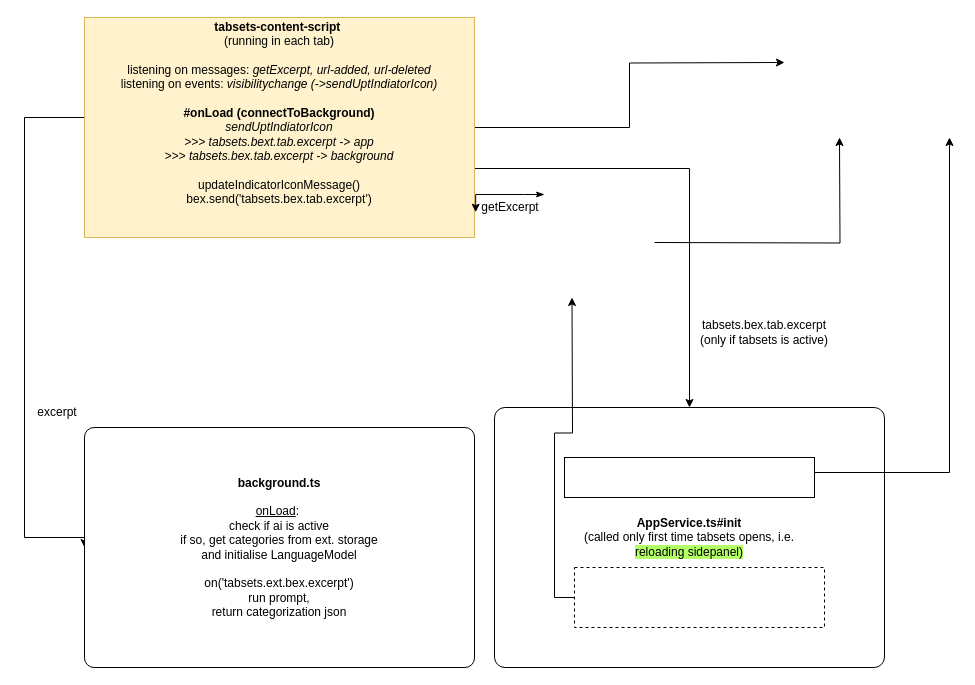
Some shapes in this 975 by 685 pixel diagram are drawn without their labels. The box of each missing label's shape, as (x1, y1, x2, y2) in pixels:
App.ts#bex.on('tabsets.bex.tab.exerpt') BexFunctions#handleBexExerpt(): (564, 456, 814, 498)
updateExtensionIcon ( tabId ) useContentStore () . resetFor ( tab ): (574, 566, 824, 628)
